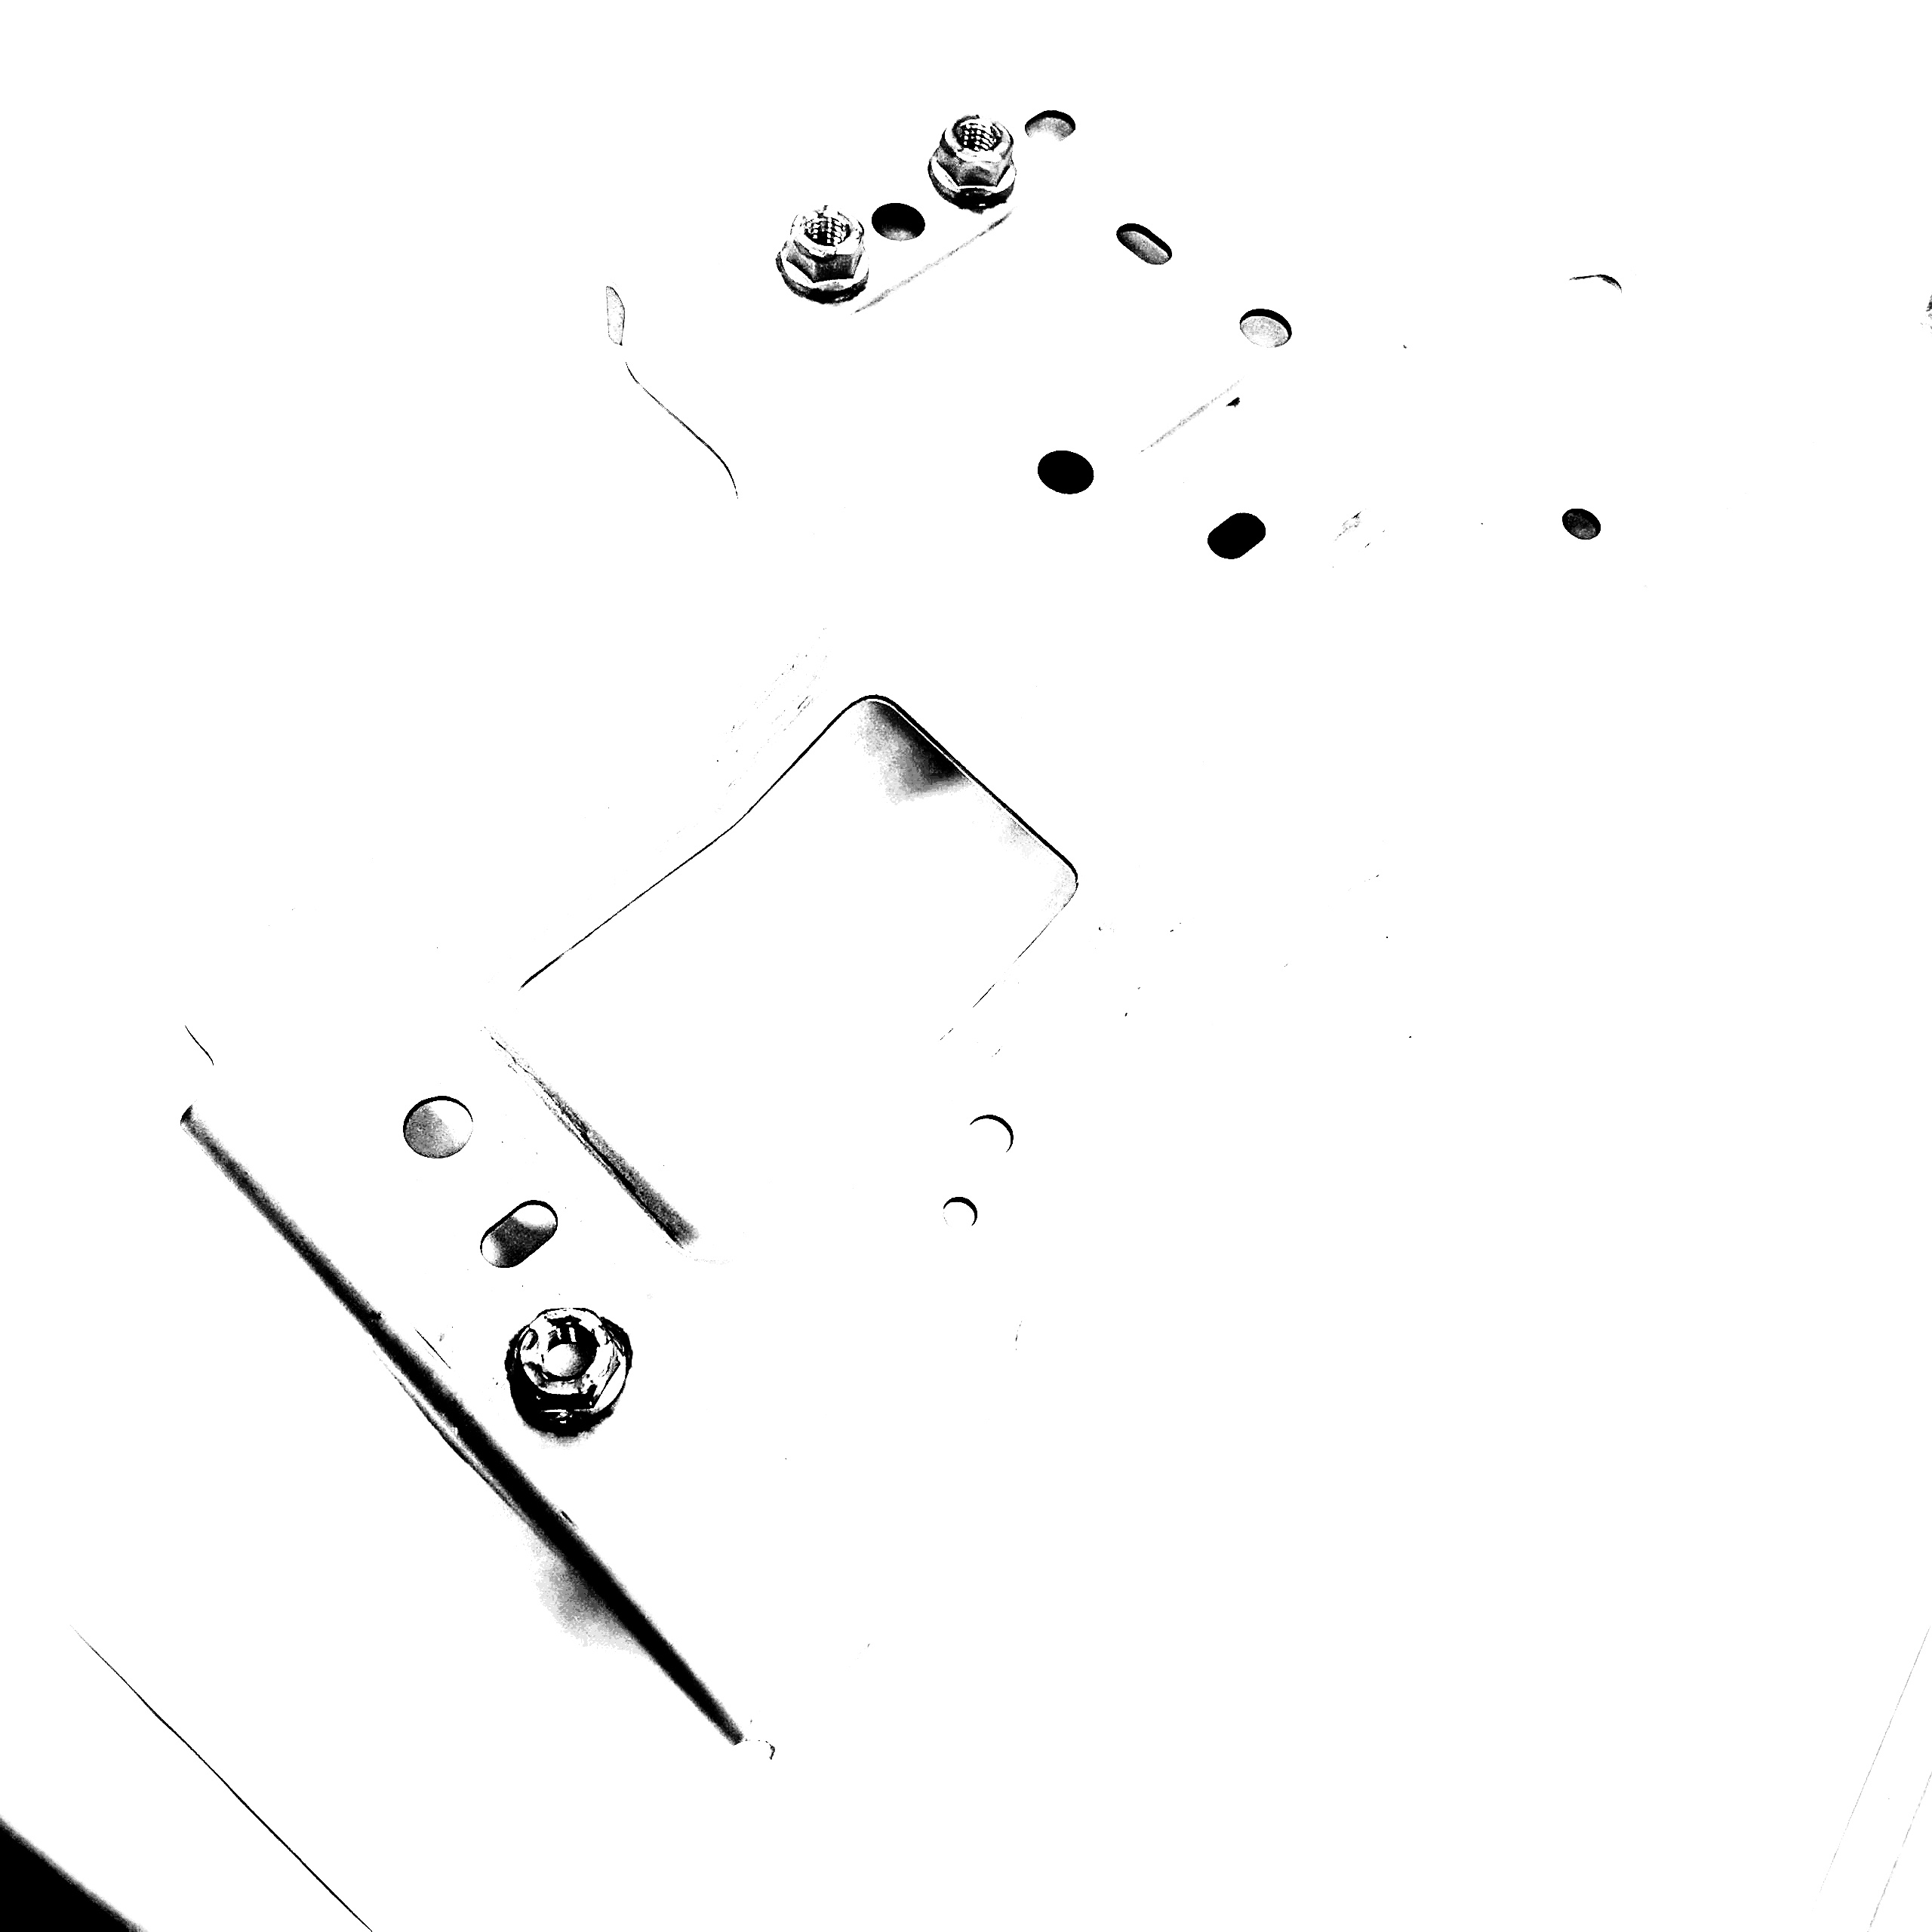dog: (495, 1300, 642, 1440), (770, 193, 879, 308), (918, 106, 1030, 214)
